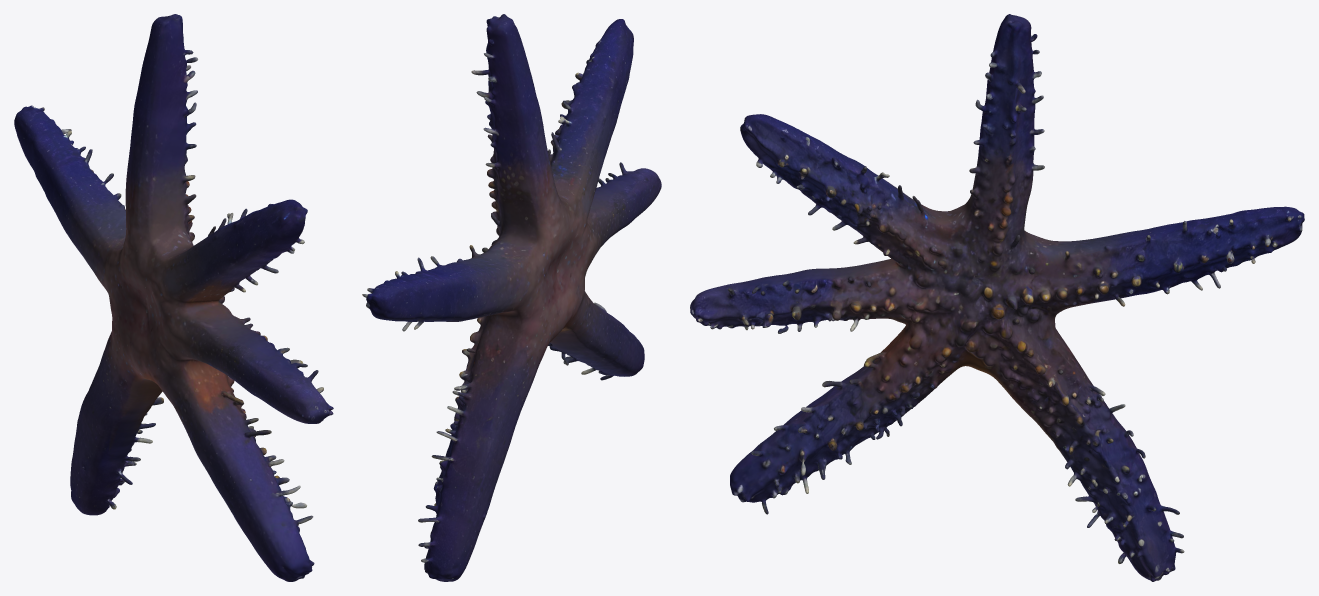
File: star_huge.glb
3 renders of one model, left to right at view 1: azimuth 30°, elevation 25°; view 2: azimuth 150°, elevation 25°; view 3: azimuth 270°, elevation 25°, orthographic. The views are drawn at different scales.
Visible parts, largest first — view 1: tripo_node_d457640d-9e34-4799-be6e-0b36bb1aa9da; view 2: tripo_node_d457640d-9e34-4799-be6e-0b36bb1aa9da; view 3: tripo_node_d457640d-9e34-4799-be6e-0b36bb1aa9da.
Part boxes in pixels (box(x1,y1,x2,y2)): tripo_node_d457640d-9e34-4799-be6e-0b36bb1aa9da: box(14, 14, 333, 581); tripo_node_d457640d-9e34-4799-be6e-0b36bb1aa9da: box(362, 14, 661, 581); tripo_node_d457640d-9e34-4799-be6e-0b36bb1aa9da: box(690, 14, 1304, 581).
Bounding box in the file's own units: 0.1666 × 1 × 0.9819.
1 material, 1 textured.
